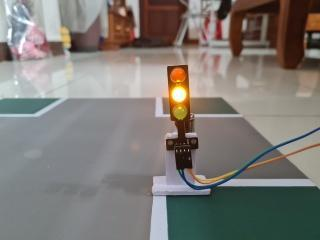yellow: (156, 55, 208, 129)
